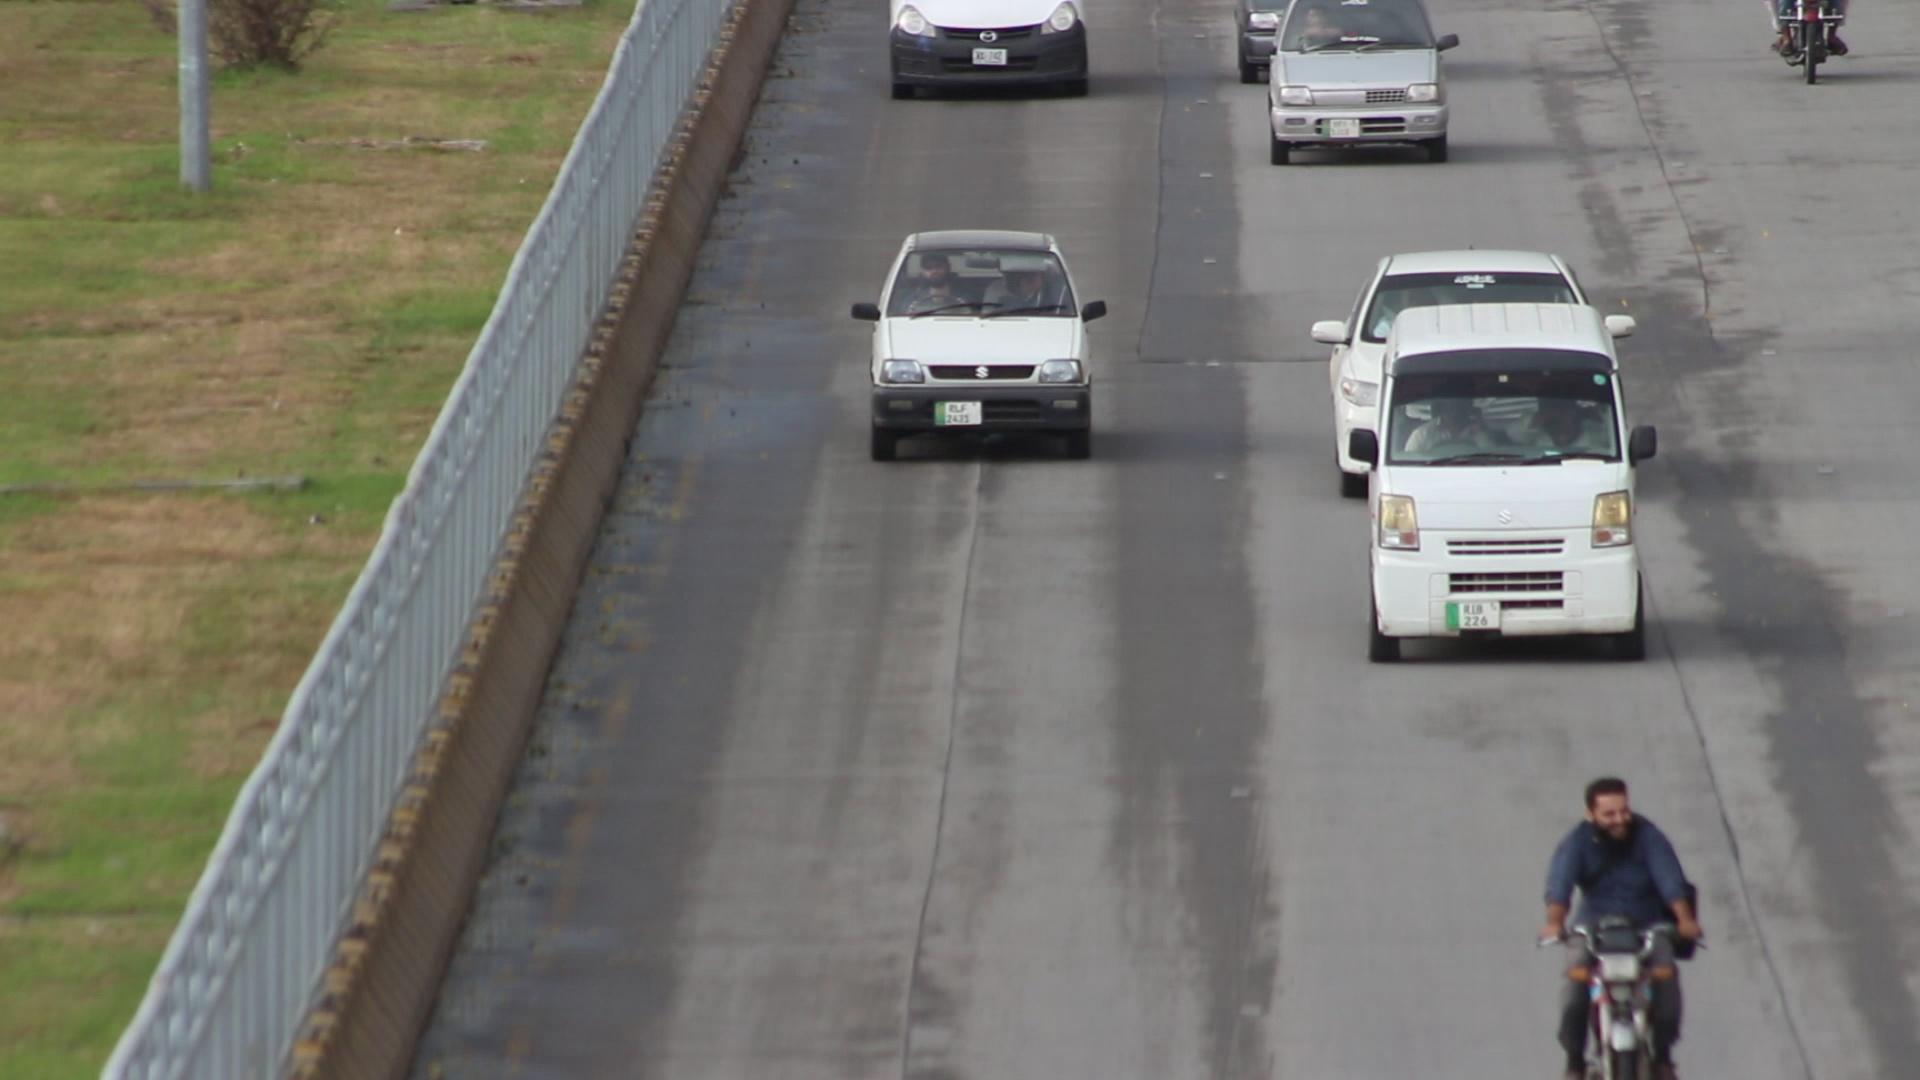windshield: (1381, 349, 1629, 472), (881, 236, 1087, 324)
